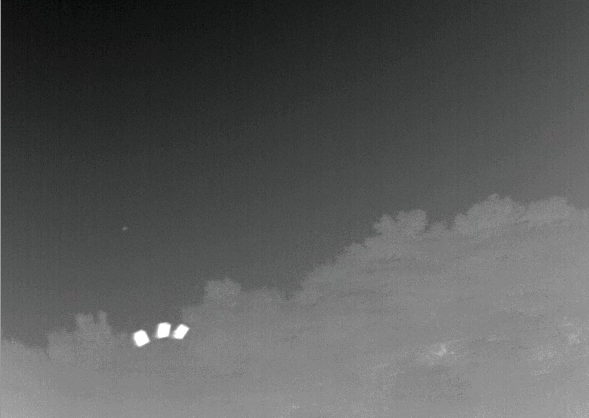dim target: (121, 225, 129, 232)
